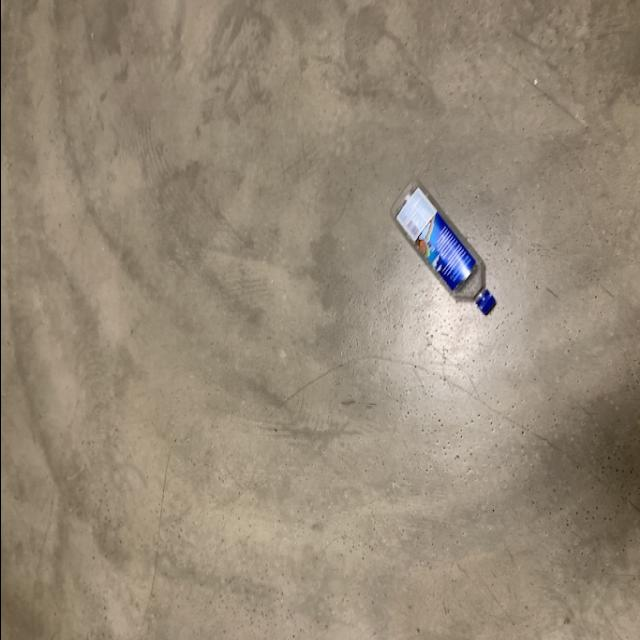PET: (384, 178, 500, 316)
